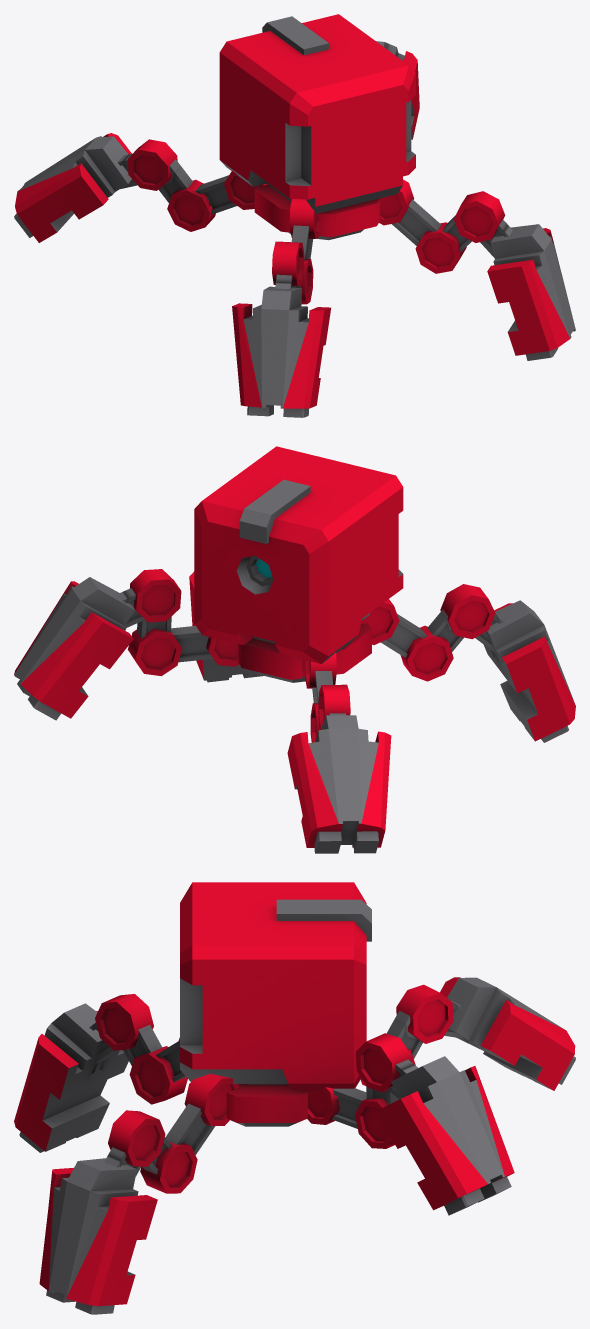
Rendered from Monster1_Move10.obj.
3 renders of one model, top to bottom at view 1: azimuth 30°, elevation 25°; view 2: azimuth 150°, elevation 25°; view 3: azimuth 270°, elevation 25°, orthographic. The views are drawn at different scales.
Visible parts, largest first — view 1: Box006, Object021, Object017, Object025, Object027, Object020, Object028, Object018, Object019, Object026, Object024, Object022 (+1 smaller); view 2: Box006, Object025, Object013, Object021, Object016, Object023, Object024, Object015, Object022, Object014, Object017, Object028 (+1 smaller); view 3: Box006, Object017, Object013, Object021, Object025, Object018, Object023, Object020, Object024, Object016, Object028, Object019 (+3 smaller).
Boxes of the visible parts, x1,y1,x2,y2 form: Box006: [219, 14, 415, 240]; Object021: [232, 286, 330, 417]; Object017: [487, 224, 575, 360]; Object025: [14, 133, 131, 242]; Object027: [158, 159, 215, 231]; Object020: [454, 191, 512, 258]; Object028: [117, 139, 177, 190]; Object018: [379, 179, 441, 245]; Object019: [415, 215, 471, 273]; Object026: [195, 170, 267, 214]; Object024: [272, 241, 304, 288]; Object022: [289, 199, 319, 260]; Box006: [194, 446, 403, 682]; Object025: [287, 715, 391, 853]; Object013: [14, 577, 135, 720]; Object021: [483, 600, 575, 742]; Object016: [117, 569, 181, 627]; Object023: [400, 609, 463, 681]; Object024: [440, 584, 503, 653]; Object015: [127, 617, 182, 676]; Object022: [361, 599, 427, 657]; Object014: [171, 626, 238, 666]; Object017: [189, 571, 263, 682]; Object028: [318, 684, 350, 729]; Box006: [180, 882, 371, 1126]; Object017: [39, 1158, 157, 1314]; Object013: [376, 1056, 514, 1215]; Object021: [14, 1003, 128, 1152]; Object025: [440, 977, 575, 1090]; Object018: [165, 1073, 239, 1154]; Object023: [123, 1025, 187, 1104]; Object020: [104, 1110, 165, 1176]; Object024: [89, 994, 153, 1063]; Object016: [355, 1033, 417, 1098]; Object028: [396, 984, 464, 1043]; Object019: [140, 1137, 197, 1193].
Size of the model in its own units: 157 by 111 by 177.
